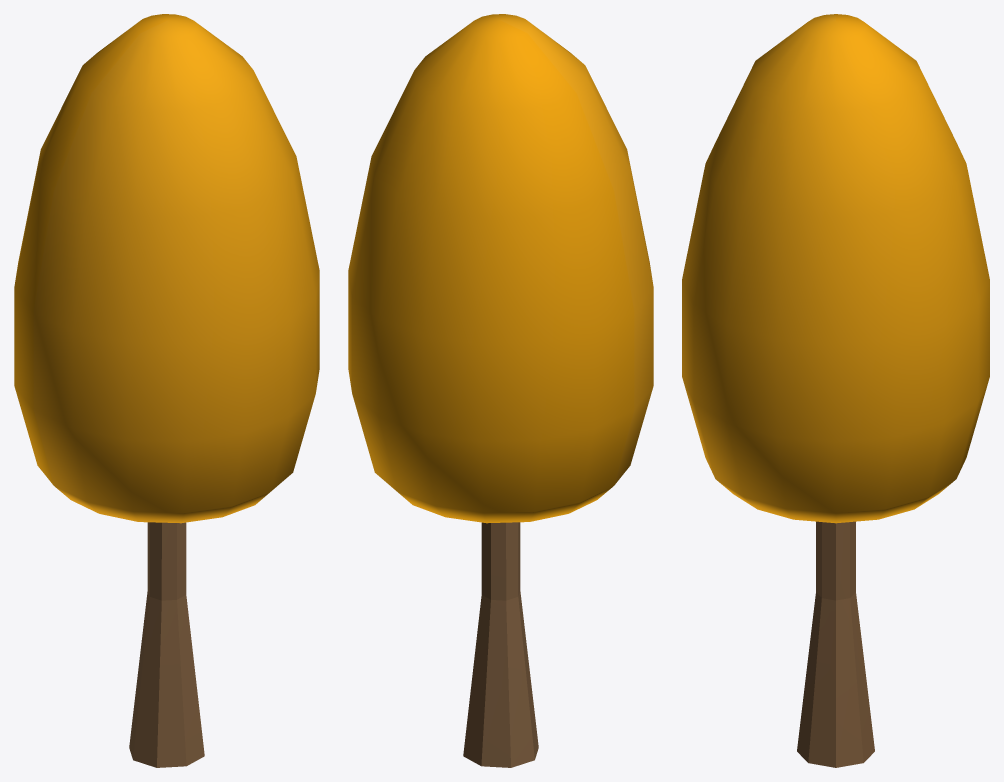
File: tree_2_yellow.fbx
The picture shows the model from 3 angles, left to right: view 1: azimuth 30°, elevation 25°; view 2: azimuth 150°, elevation 25°; view 3: azimuth 270°, elevation 25°; orthographic projection.
Parts seen in each view (by area): view 1: tree_2_yellow; view 2: tree_2_yellow; view 3: tree_2_yellow.
Part boxes in pixels (x1=…): tree_2_yellow: x1=14, y1=14, x2=319, y2=767; tree_2_yellow: x1=348, y1=14, x2=653, y2=767; tree_2_yellow: x1=682, y1=14, x2=989, y2=767.
Bounding box in the file's own units: 331 × 868 × 331.
